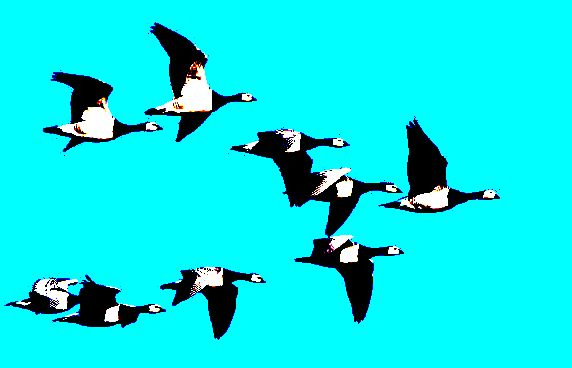Bird: (144, 20, 258, 144), (376, 114, 501, 214), (40, 67, 163, 156), (289, 235, 406, 326), (229, 126, 351, 207), (159, 262, 268, 340), (291, 171, 405, 237), (52, 282, 166, 330), (5, 275, 87, 311)
